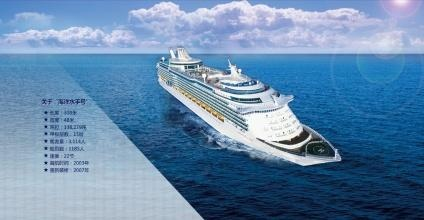youlun: (152, 41, 343, 166)
